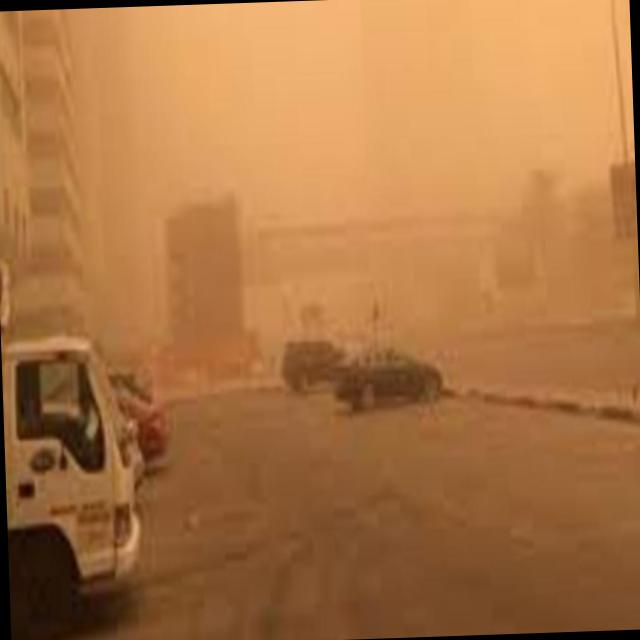car: (325, 351, 445, 412), (117, 366, 165, 466), (280, 335, 356, 397)
